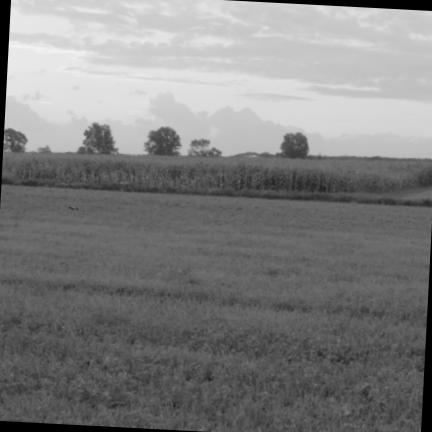Shahed: (69, 206, 78, 210)
